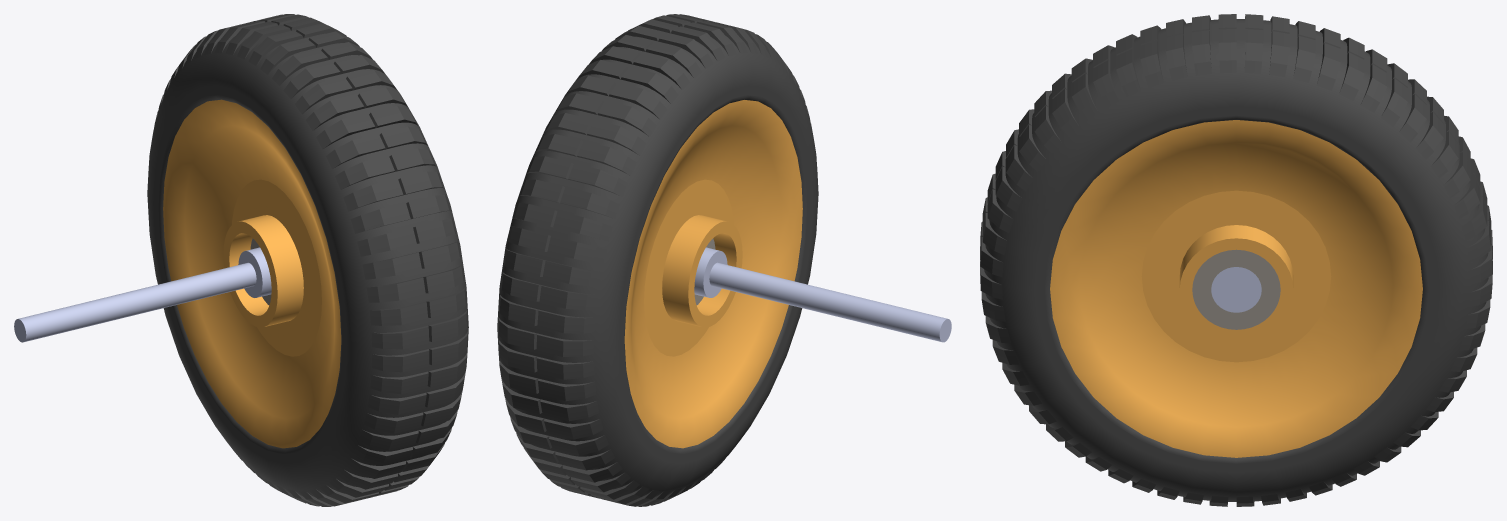
File: banhxe_truc.obj
3 views of the same model, side by side, from view 1: azimuth 30°, elevation 25°; view 2: azimuth 150°, elevation 25°; view 3: azimuth 270°, elevation 25° (orthographic). The views are drawn at different scales.
Visible parts, largest first — view 1: banhxe_truc, banhxe_truc-1, banhxe_truc-2; view 2: banhxe_truc, banhxe_truc-1, banhxe_truc-2; view 3: banhxe_truc, banhxe_truc-1, banhxe_truc-3, banhxe_truc-2.
Part boxes in pixels (x1,y1,x2,y2): banhxe_truc: (147,14,468,506); banhxe_truc-1: (163,99,341,448); banhxe_truc-2: (14,247,271,342); banhxe_truc: (497,14,818,506); banhxe_truc-1: (624,100,802,448); banhxe_truc-2: (694,247,951,342); banhxe_truc: (980,14,1492,506); banhxe_truc-1: (1050,120,1422,457); banhxe_truc-3: (1192,249,1280,329); banhxe_truc-2: (1211,267,1261,312).
Size of the model in its own units: 165 by 203 by 203.
